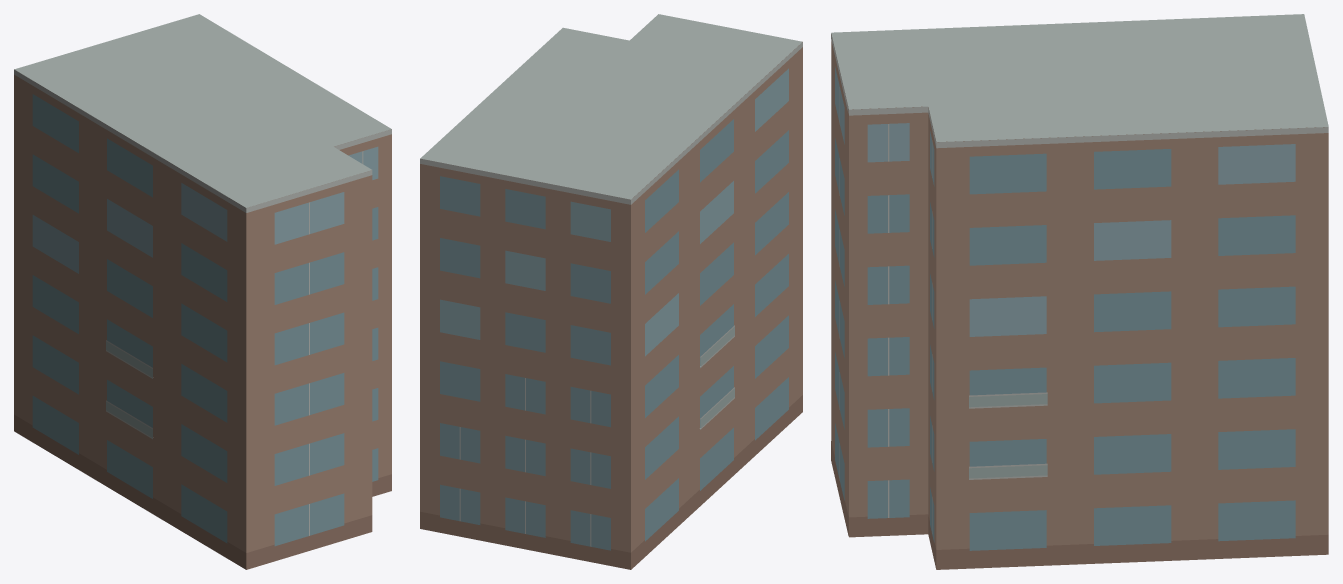
Rendered from survey-upis-32567886.glb.
3 renders of one model, left to right at view 1: azimuth 30°, elevation 25°; view 2: azimuth 150°, elevation 25°; view 3: azimuth 270°, elevation 25°, orthographic. The views are drawn at different scales.
Visible parts, largest first — view 1: survey-upis-32567886.tmp; view 2: survey-upis-32567886.tmp; view 3: survey-upis-32567886.tmp.
Boxes of the visible parts, x1=… form: survey-upis-32567886.tmp: x1=14, y1=14, x2=391, y2=569; survey-upis-32567886.tmp: x1=420, y1=14, x2=802, y2=569; survey-upis-32567886.tmp: x1=831, y1=14, x2=1328, y2=569.
Bounding box in the file's own units: 11.06 × 17.2 × 18.15.
